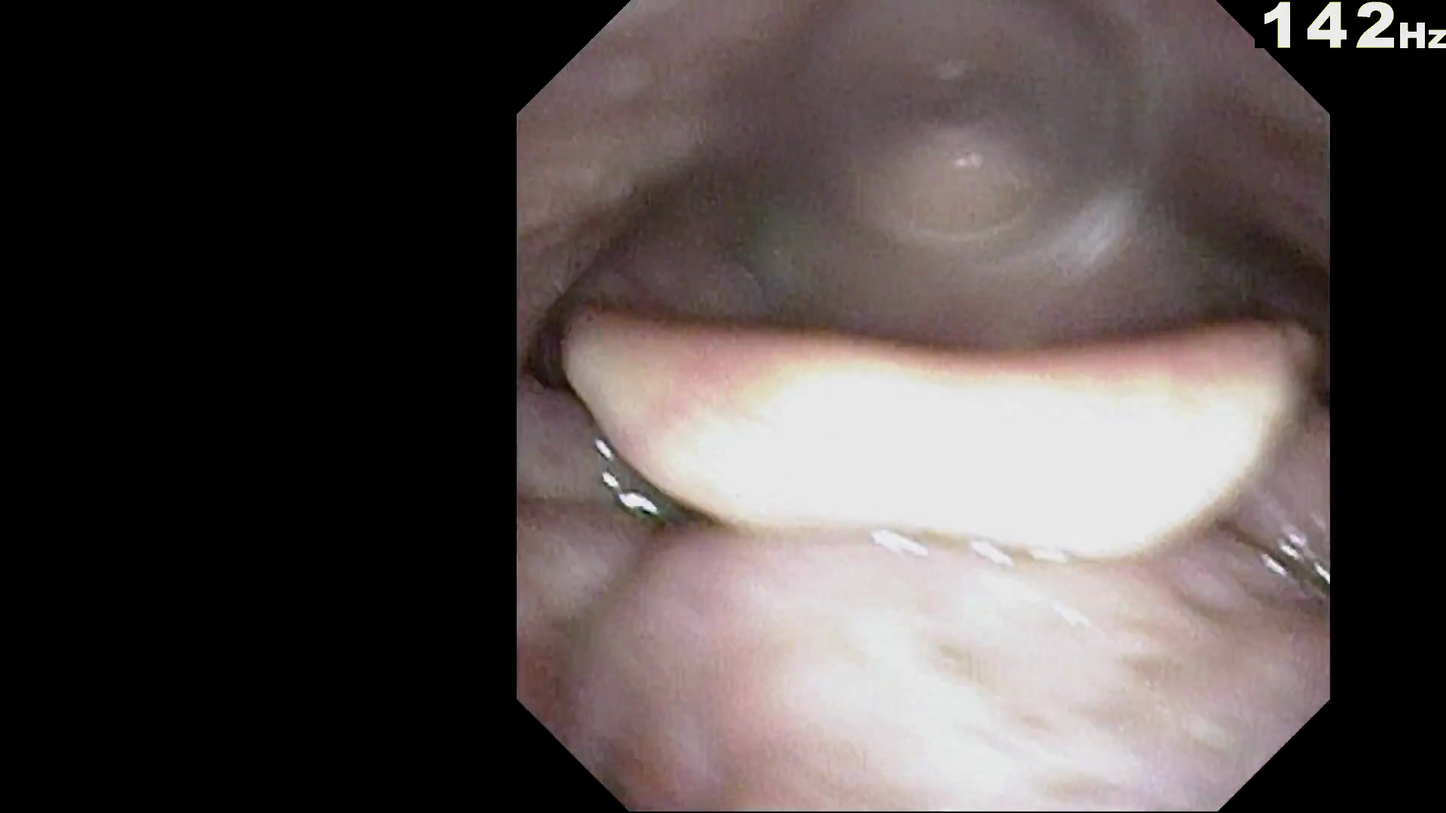epiglottis: (606, 325, 1221, 550)
